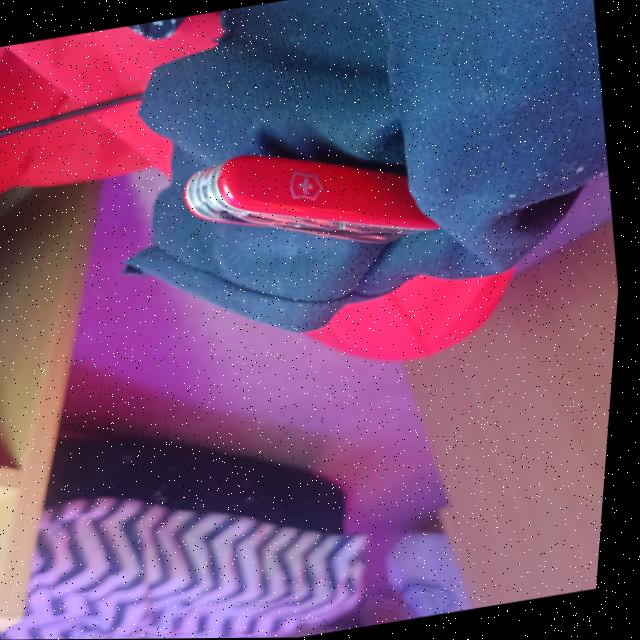knife victorinox: (185, 155, 442, 243)
